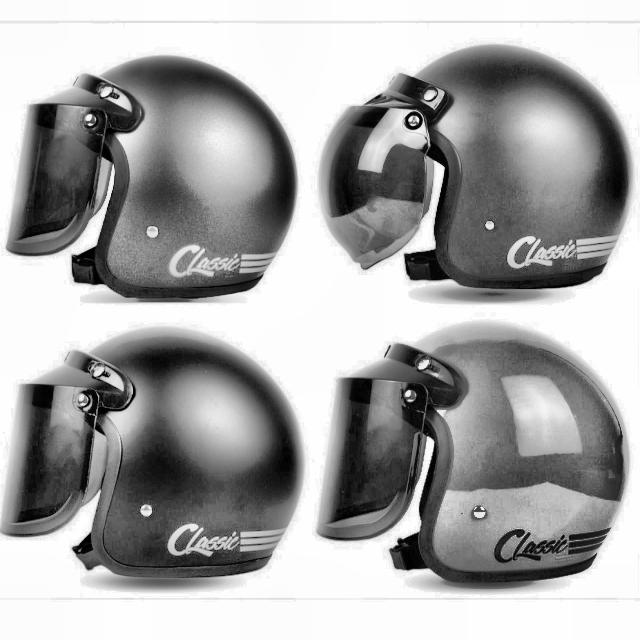Helmet: (317, 308, 640, 587), (319, 39, 638, 293), (2, 328, 303, 592), (4, 57, 296, 297)
